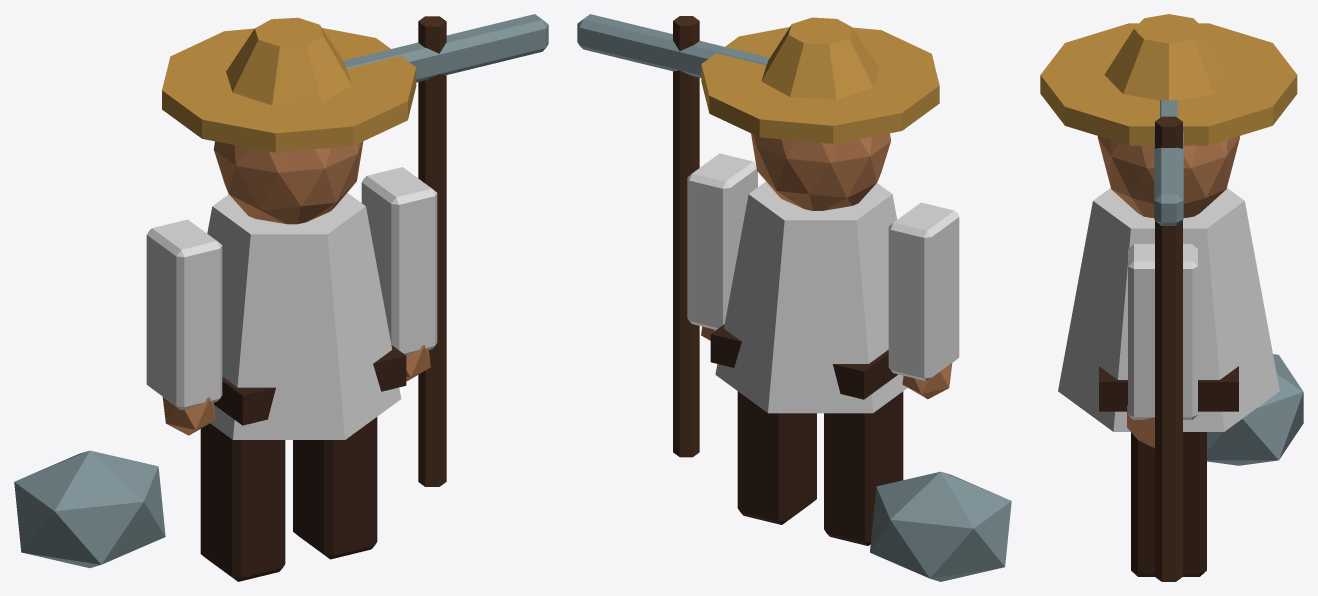
Rendered from miner.glb.
The picture shows the model from 3 angles, left to right: view 1: azimuth 30°, elevation 25°; view 2: azimuth 150°, elevation 25°; view 3: azimuth 270°, elevation 25°; orthographic projection. The views are drawn at different scales.
Visible parts, largest first — view 1: miner; view 2: miner; view 3: miner.
Boxes of the visible parts, x1=… form: miner: x1=14, y1=14, x2=548, y2=581; miner: x1=577, y1=14, x2=1011, y2=581; miner: x1=1040, y1=14, x2=1303, y2=581.
Size of the model in its own units: 0.4771 by 0.4875 by 0.2253.
